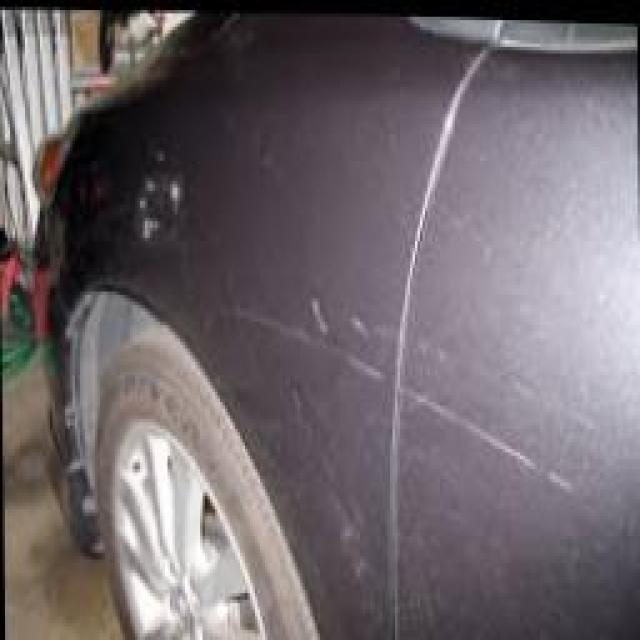Door: (396, 331, 597, 518)
Fender: (115, 104, 449, 477)
